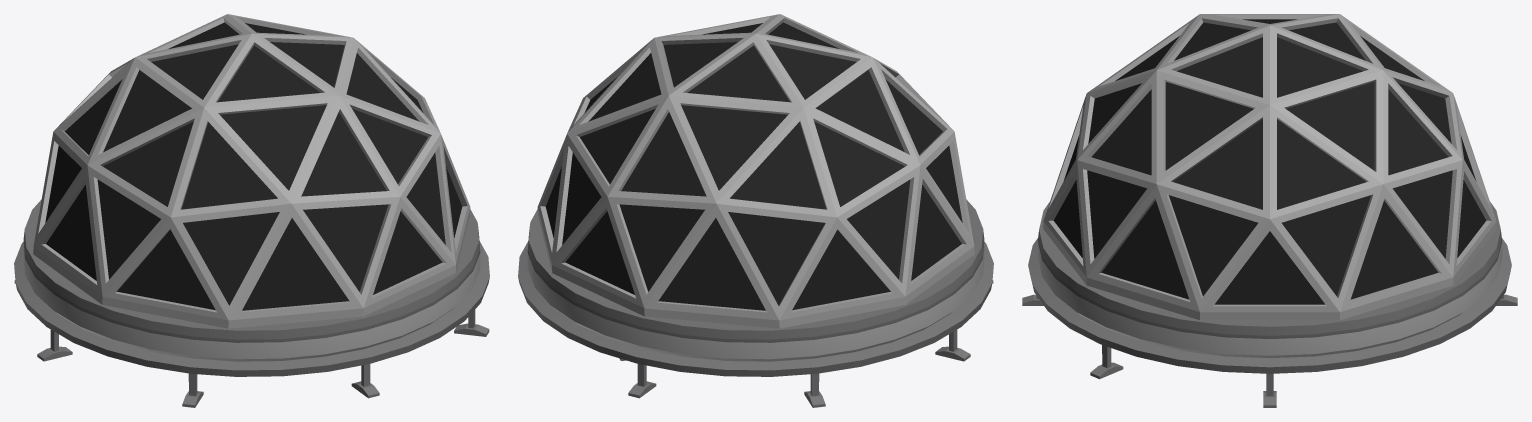
Rendered from geodesicdome.glb.
3 views of the same model, side by side, from view 1: azimuth 30°, elevation 25°; view 2: azimuth 150°, elevation 25°; view 3: azimuth 270°, elevation 25° (orthographic).
Visible parts, largest first — view 1: GeodesicDome; view 2: GeodesicDome; view 3: GeodesicDome.
Boxes of the visible parts, x1,y1,x2,y2 form: GeodesicDome: [14, 14, 489, 407]; GeodesicDome: [518, 14, 993, 407]; GeodesicDome: [1022, 14, 1517, 407].
Size of what is drawn, in the model's own units: 8.53 by 5.28 by 8.53.
Materials: 1 (1 with a texture image).
